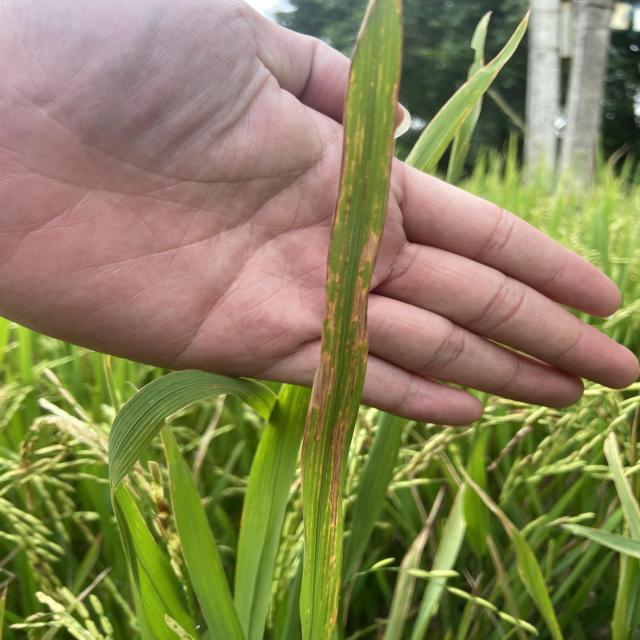Dom soc vi khuan: (300, 273, 343, 496), (339, 195, 381, 408), (321, 407, 354, 584), (337, 184, 354, 271), (329, 605, 338, 630)
